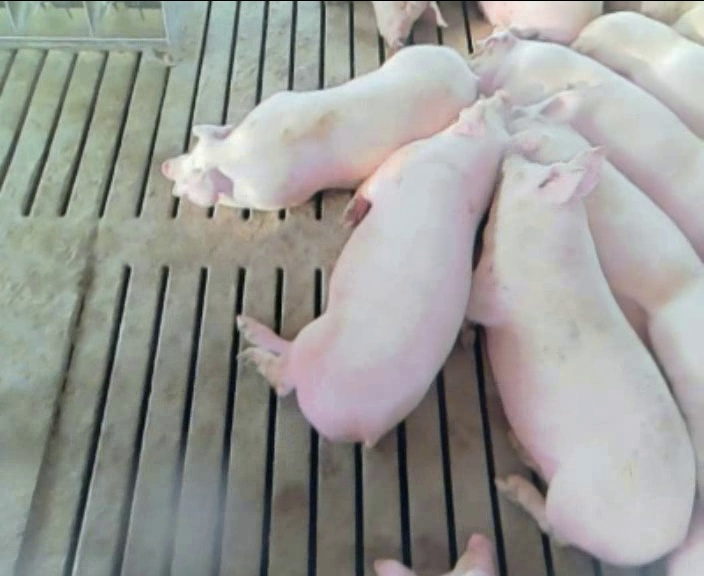pig: (238, 90, 546, 443), (459, 149, 694, 563), (471, 29, 703, 257), (162, 45, 476, 209), (572, 12, 703, 137)
